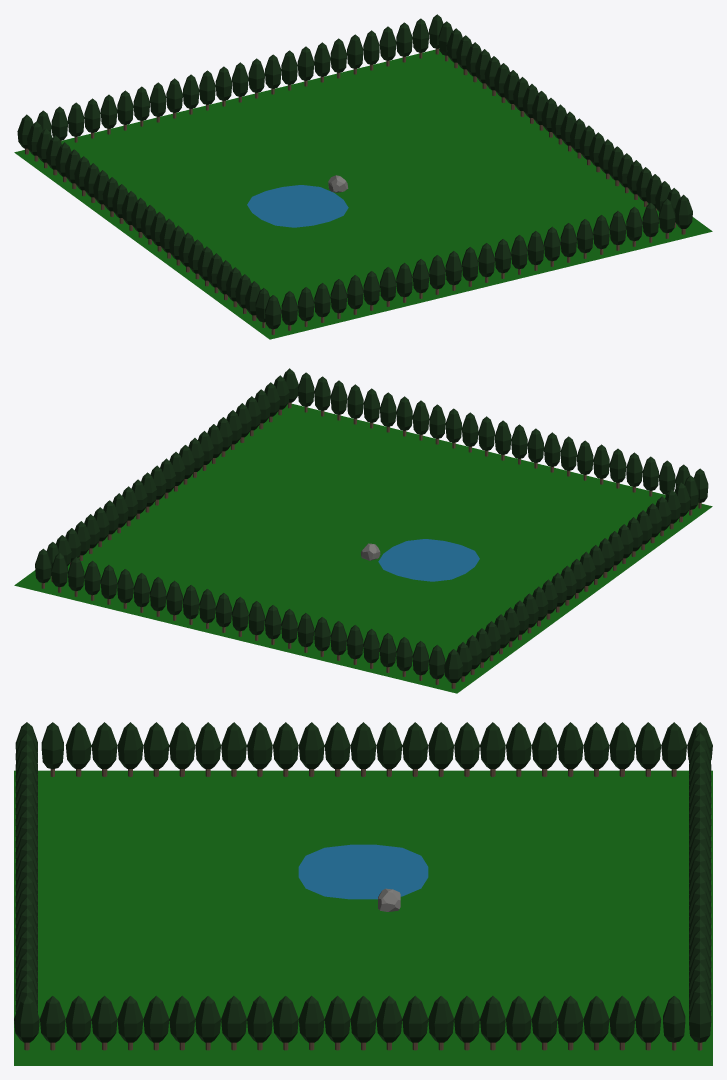
The model's file is ground.glb.
3 views of the same model, one above another, from view 1: azimuth 30°, elevation 25°; view 2: azimuth 150°, elevation 25°; view 3: azimuth 270°, elevation 25° (orthographic). The views are drawn at different scales.
Visible parts, largest first — view 1: mergedBlocks, _mm4, _mm1, _mm3; view 2: mergedBlocks, _mm4, _mm1, _mm3; view 3: mergedBlocks, _mm4, _mm1, _mm3.
Part boxes in pixels (bbox=[...]): mergedBlocks: bbox=[14, 49, 712, 339]; _mm4: bbox=[17, 14, 692, 329]; _mm1: bbox=[247, 185, 348, 227]; _mm3: bbox=[25, 48, 685, 334]; mergedBlocks: bbox=[14, 404, 712, 693]; _mm4: bbox=[35, 368, 708, 682]; _mm1: bbox=[378, 539, 479, 581]; _mm3: bbox=[41, 402, 701, 688]; mergedBlocks: bbox=[14, 770, 712, 1065]; _mm4: bbox=[14, 722, 712, 1042]; _mm1: bbox=[298, 844, 428, 899]; _mm3: bbox=[24, 769, 702, 1050].
Size of the model in its own units: 27 by 2.3 by 27.
